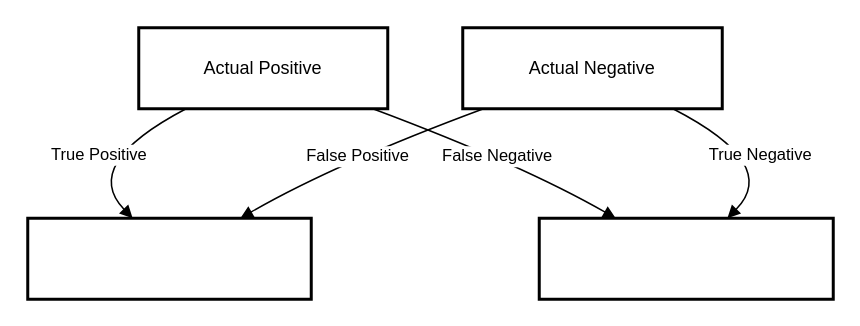
The diagram is 860 pixels wide and 326 high, and some of its shapes have lost their labels. Each missing label, with the centre of its shape:
Predicted Negative: the point at 685,258
Predicted Positive: the point at 169,258
